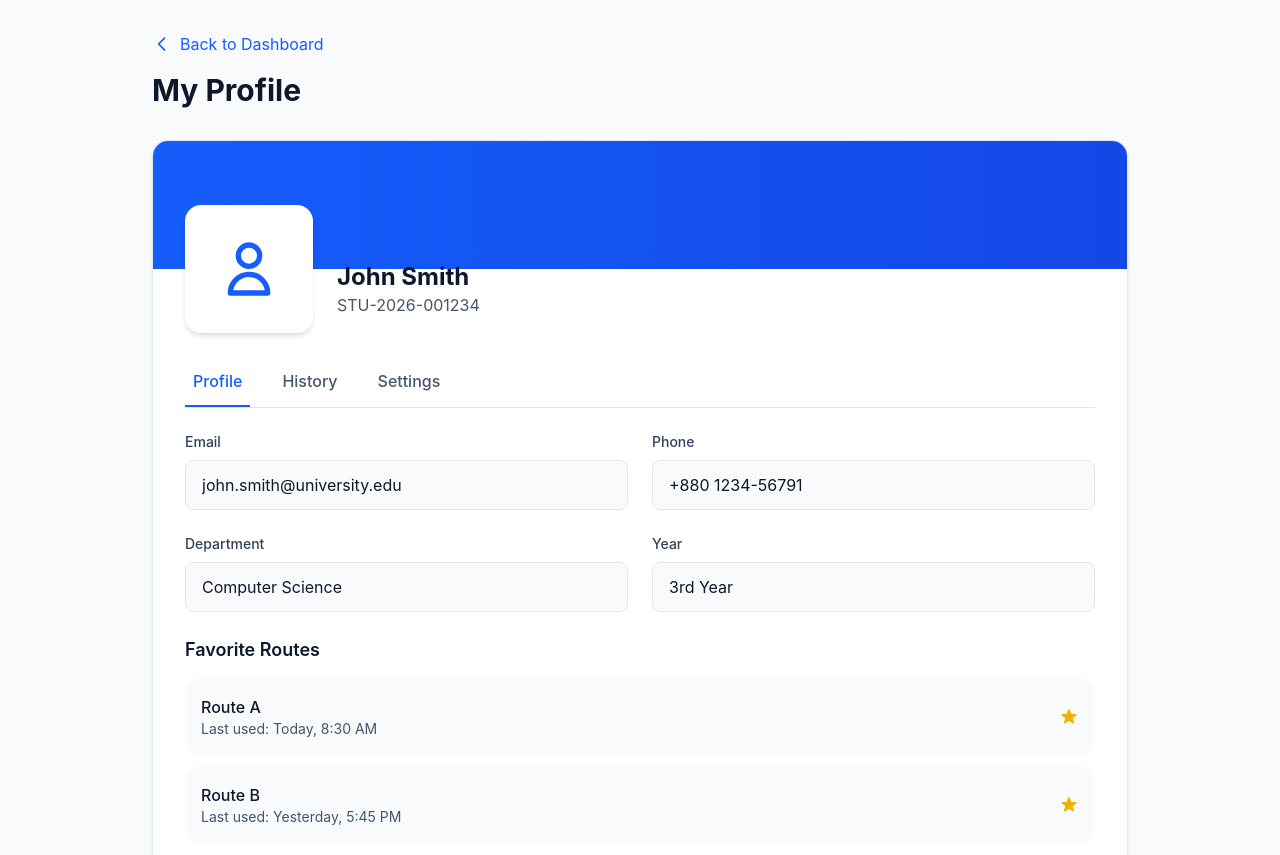
Test: StudentProfile › renders profile and can switch tabs
Expected: the heading "My Profile" is shown, [152,72,301,108]
Expected: the heading "John Smith" is shown, [337,261,480,293]
# Switch to history tab
Click the button "history" at [310, 382], box [274,357,346,407]
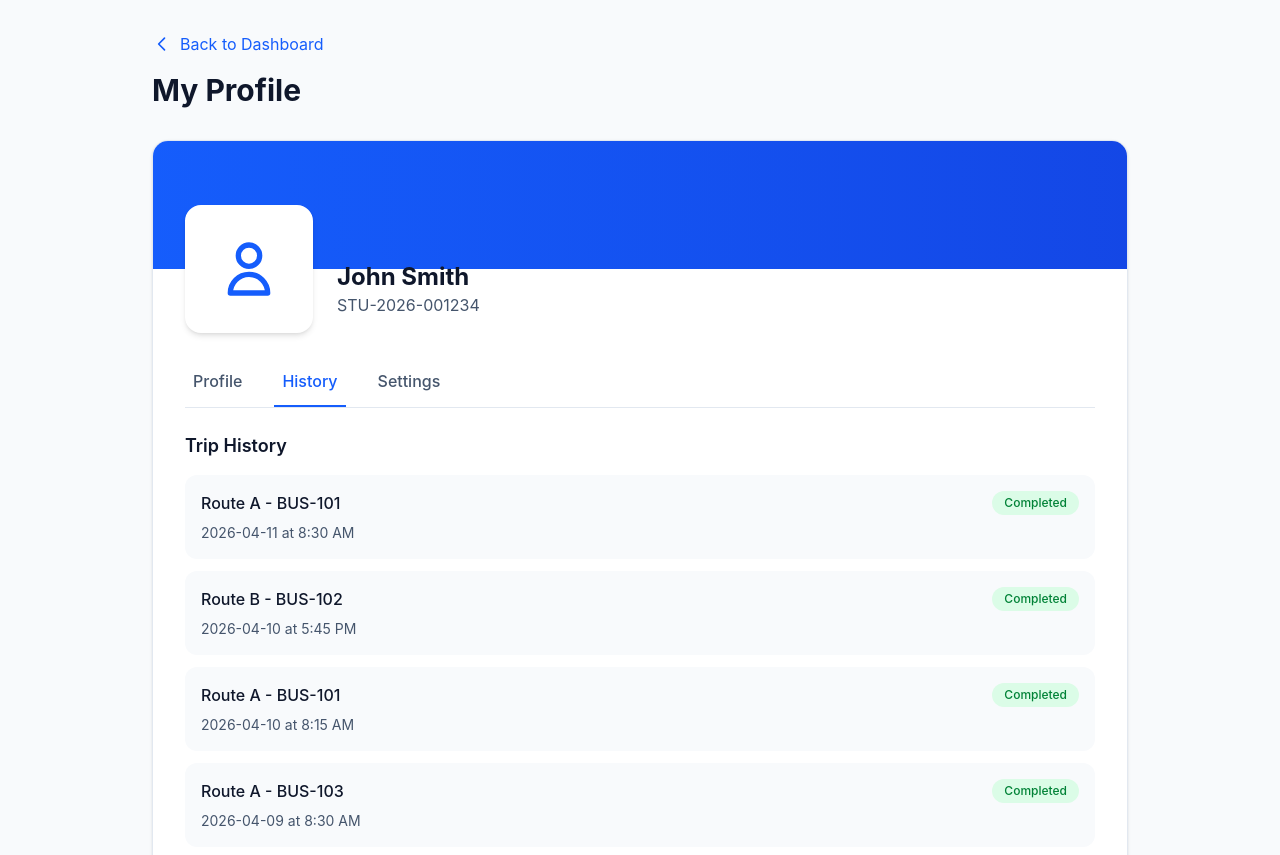
Result: the heading "Trip History" is shown at [185,435,287,456]
# Switch to settings
Click the button "settings" at [409, 382], box [370,357,448,407]
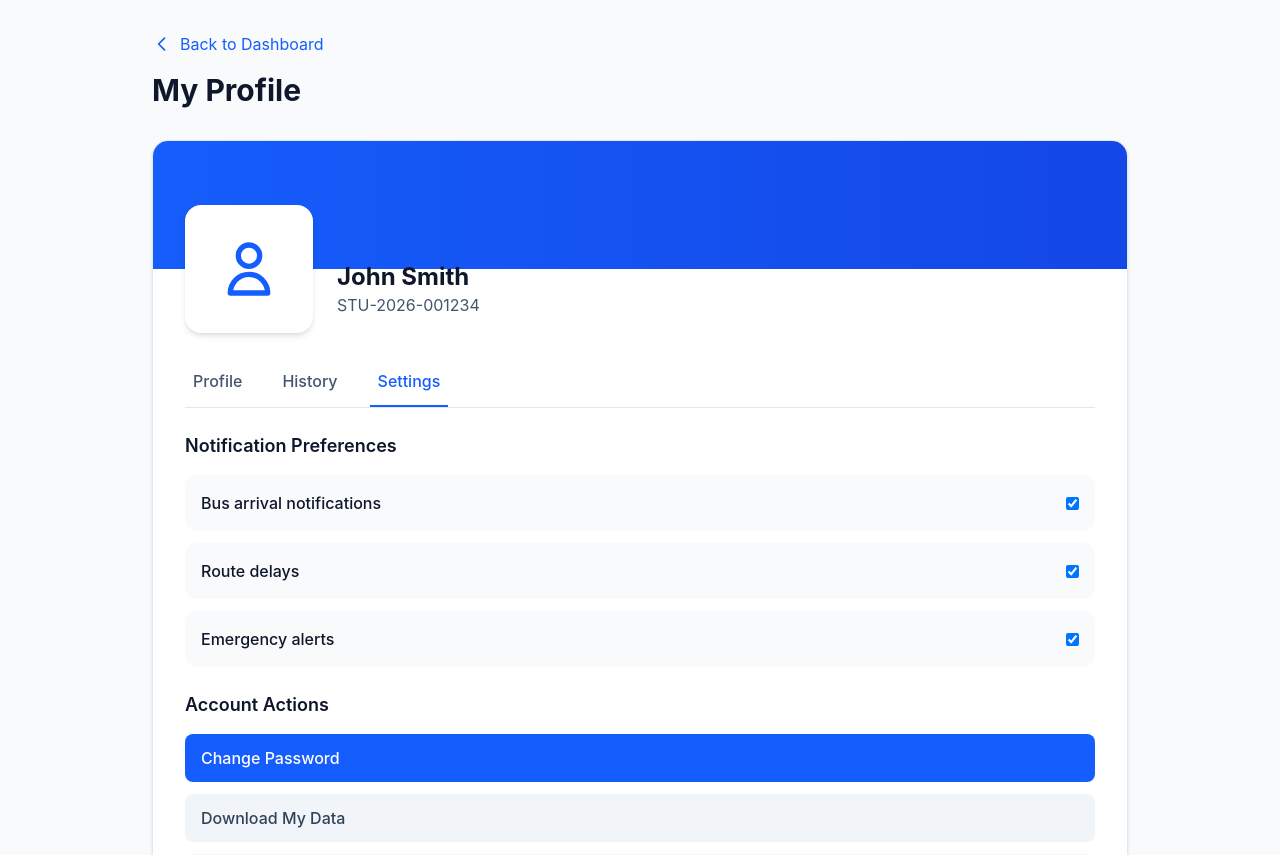
Result: the heading "Notification Preferences" is shown at [185,435,397,456]
